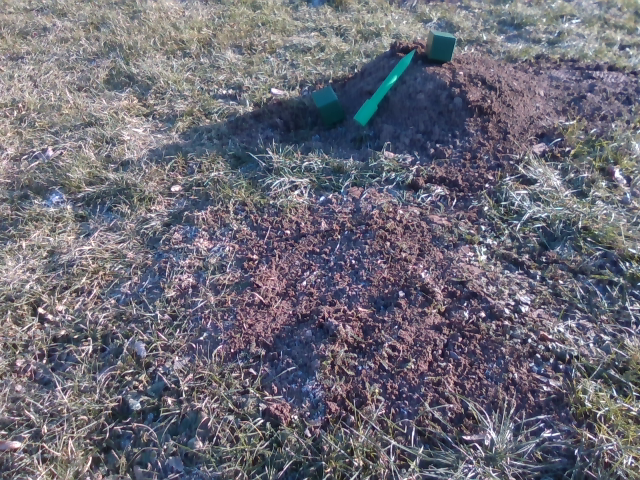Probe: (351, 44, 418, 132)
